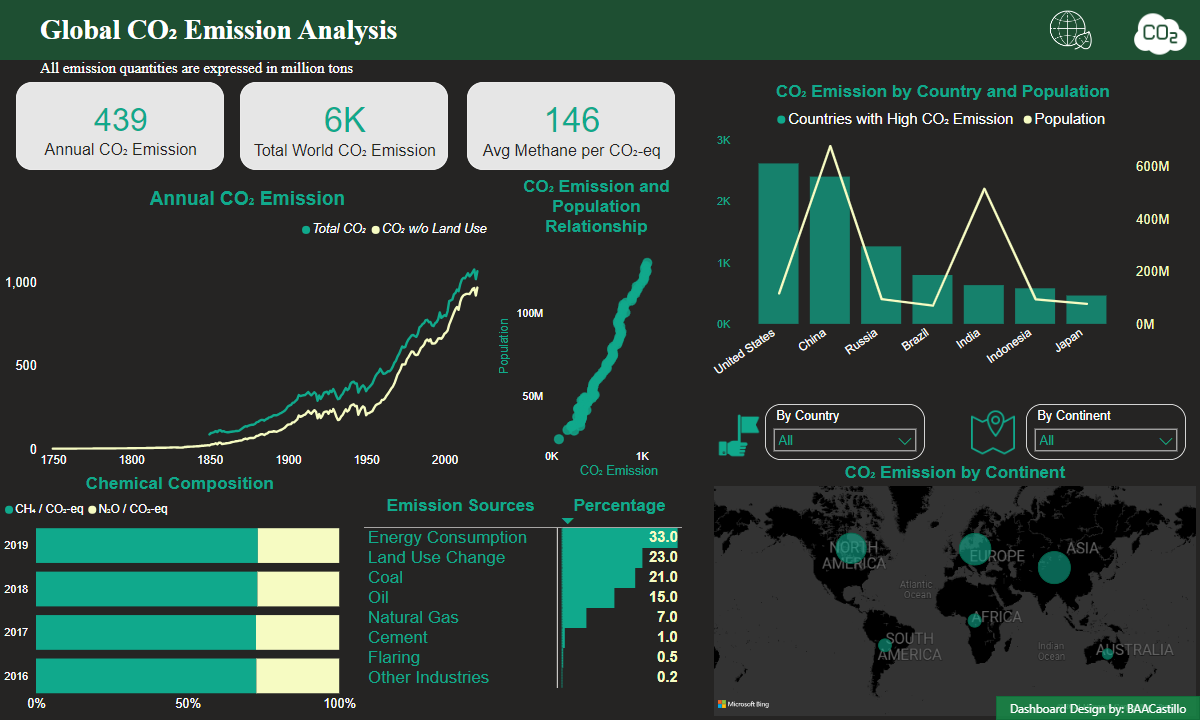

The page's visual inventory and layout, read from the dashboard file:
{"tool":"powerbi","page":{"name":"Dashboard","canvas":[1500,900],"ordinal":0},"visuals":[{"type":"shape","box":[0,0,1500,75],"z":0},{"type":"lineChart","title":"Annual CO₂ Emission ","fields":{"Category":["f-demo_year.year"],"Y":["Sum(f-demo_year.co2)","Sum(f-demo_year.co2 without land_use)"]},"box":[0,228.8,618.8,362.5],"z":1000},{"type":"pivotTable","fields":{"Rows":["d-emission_sources.emission_sources"],"Values":["Sum(d-emission_sources.percentage)"]},"box":[450,615,407.5,250],"z":2000},{"type":"map","title":"CO₂ Emission by Continent","fields":{"Category":["f-demo_continent.continent"],"Size":["Sum(f-demo_continent.co2)"]},"box":[887.5,578.8,612.5,321.2],"z":3000},{"type":"card","fields":{"Values":["Avg(f-demo_year.co2)"]},"box":[20,102.5,260,110],"z":4000},{"type":"card","fields":{"Values":["Measure Table.Worldwide_CO2"]},"box":[300,102.5,260,110],"z":5000},{"type":"card","fields":{"Values":["Avg(d-chem_composition_yr.methane)"]},"box":[583.8,102.5,260,110],"z":6000},{"type":"scatterChart","title":"CO₂ Emission and Population Relationship","fields":{"X":["Sum(f-demo_year.co2)"],"Category":["f-demo_year.co2"],"Y":["Sum(f-demo_year.population)"]},"box":[618.8,221.2,253.8,380],"z":7000},{"type":"hundredPercentStackedBarChart","title":"Chemical Composition","fields":{"Category":["d-chem_composition_yr.year.Variation.Date Hierarchy.Year"],"Y":["Sum(d-chem_composition_yr.methane)","Sum(d-chem_composition_yr.nitrous_oxide)"]},"box":[0,591.2,450,305],"z":8000},{"type":"lineClusteredColumnComboChart","title":"CO₂ Emission by Country and Population","fields":{"Category":["f-demo_country.country"],"Y":["Sum(f-demo_country.co2)"],"Y2":["Sum(f-demo_country.population)"]},"box":[872.5,102.5,612.5,385],"z":10000},{"type":"slicer","title":"CO₂ Emission by Continent","fields":{"Values":["f-demo_continent.continent","f-demo_continent.co2"]},"box":[1282.5,505,200,70],"z":11000},{"type":"slicer","fields":{"Values":["f-demo_country.country","f-demo_country.co2"]},"box":[956.2,505,200,70],"z":12000},{"type":"image","box":[1399.6,0,100,85],"z":14000},{"type":"image","box":[1292.9,0,90,73.3],"z":15000},{"type":"shape","box":[1245,870,255,30],"z":16000},{"type":"shape","box":[50,73.8,400,21.2],"z":17000},{"type":"image","box":[891.2,508.8,65,70],"z":17001},{"type":"image","box":[1208.8,505,65,70],"z":17002}]}

Visuals, with their boxes in screenshot pixels (x1, y1, x2, y2), scaled from the page's 1500x900 canvas onto the 1200x720 screenshot:
shape: 0, 0, 1199, 60
"Annual CO₂ Emission " lineChart: 0, 183, 495, 473
pivotTable - d-emission_sources.emission_sources x Sum(d-emission_sources.percentage): 360, 492, 686, 692
"CO₂ Emission by Continent" map: 710, 463, 1199, 719
card - Avg(f-demo_year.co2): 16, 82, 224, 170
card - Measure Table.Worldwide_CO2: 240, 82, 448, 170
card - Avg(d-chem_composition_yr.methane): 467, 82, 675, 170
"CO₂ Emission and Population Relationship" scatterChart: 495, 177, 698, 481
"Chemical Composition" hundredPercentStackedBarChart: 0, 473, 360, 717
"CO₂ Emission by Country and Population" lineClusteredColumnComboChart: 698, 82, 1188, 390
"CO₂ Emission by Continent" slicer: 1026, 404, 1186, 460
slicer - f-demo_country.country x f-demo_country.co2: 765, 404, 925, 460
image: 1120, 0, 1199, 68
image: 1034, 0, 1106, 59
shape: 996, 696, 1199, 719
shape: 40, 59, 360, 76
image: 713, 407, 765, 463
image: 967, 404, 1019, 460
